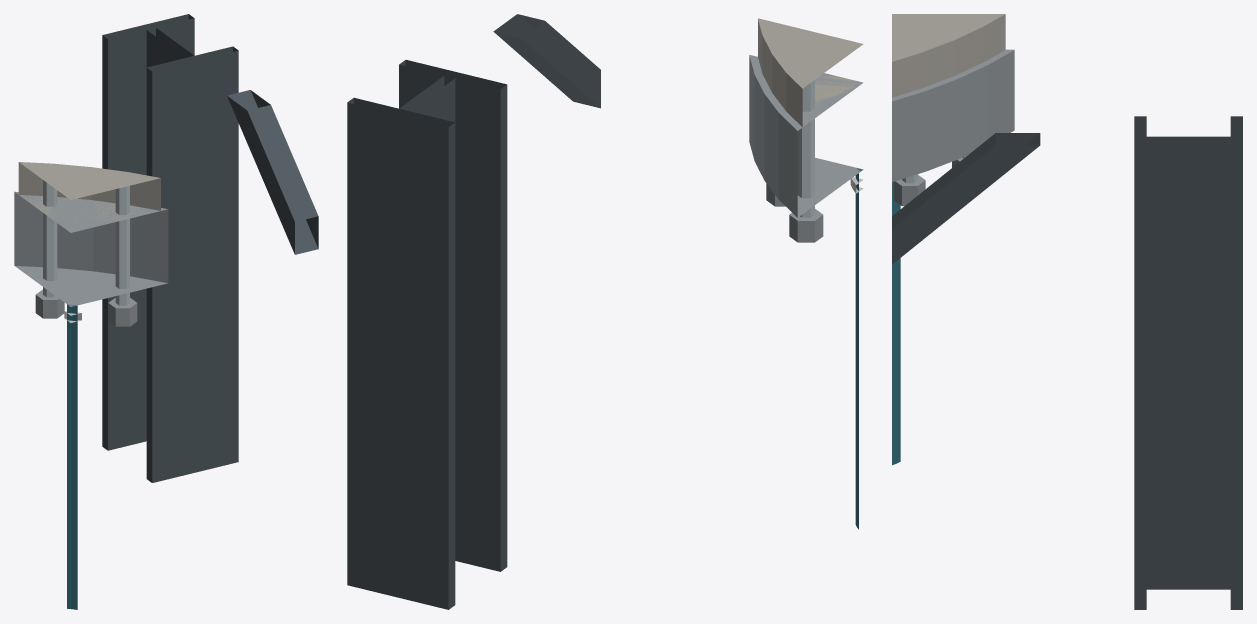
File: cell_11.obj
3 views of the same model, side by side, from view 1: azimuth 30°, elevation 25°; view 2: azimuth 150°, elevation 25°; view 3: azimuth 270°, elevation 25° (orthographic). The views are drawn at different scales.
Bounding box in the file's own units: 0.71 × 1 × 0.71.
